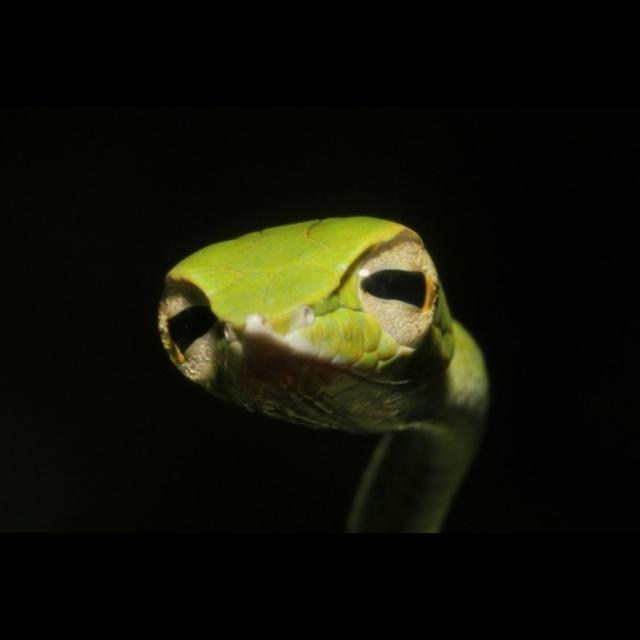snake: (155, 205, 495, 533)
